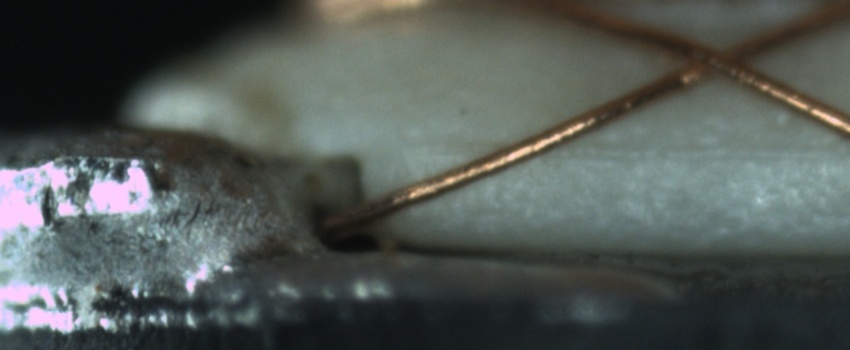CL: (675, 27, 773, 91)
DL: (400, 119, 850, 179)
